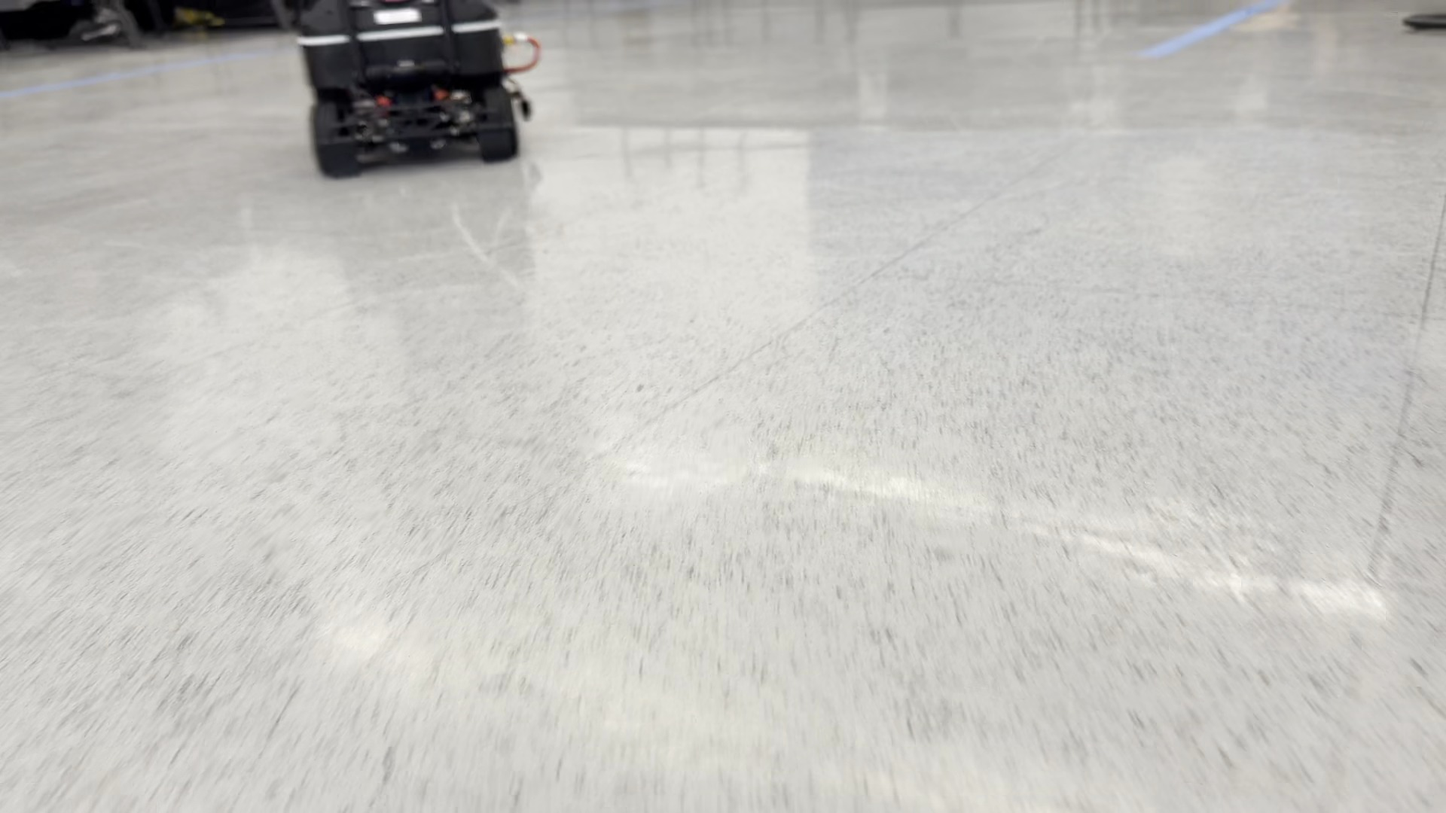racecar: (299, 2, 538, 178)
